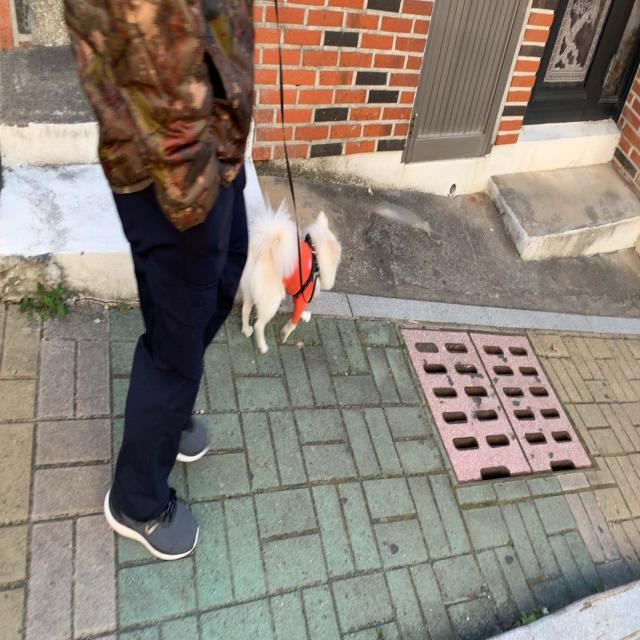Leashed_Dog: (209, 0, 342, 355)
